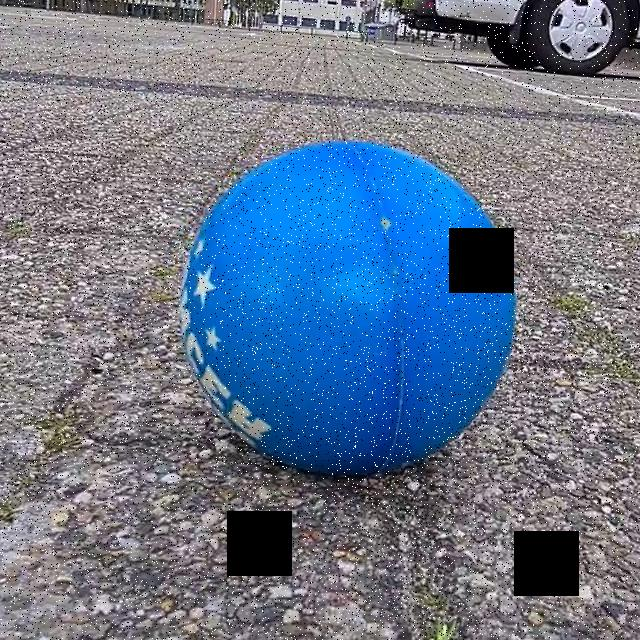ball: (179, 137, 519, 477)
